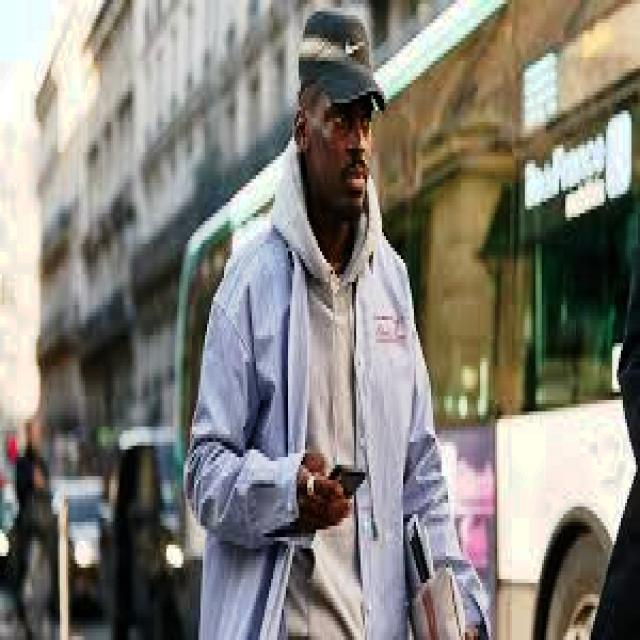TOPI: (290, 0, 388, 122)
